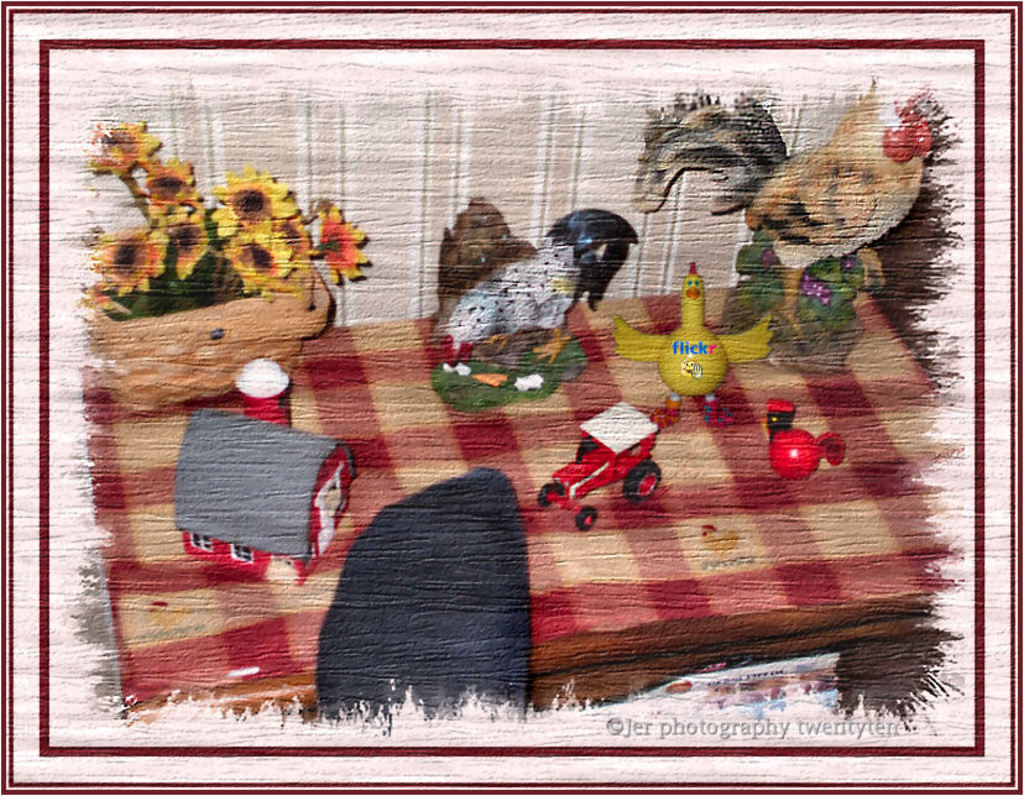chicken: (412, 191, 646, 404)
